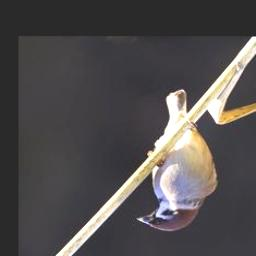Sparrow: (135, 89, 220, 233)
